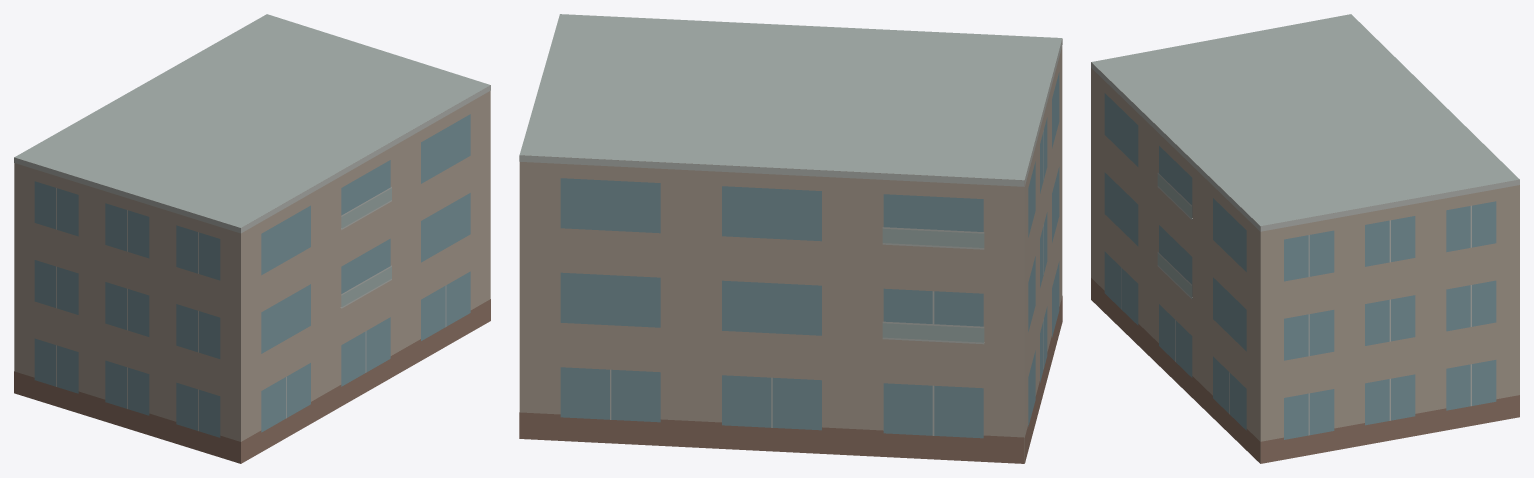
File: survey-upis-32955771.glb
3 views of the same model, side by side, from view 1: azimuth 30°, elevation 25°; view 2: azimuth 150°, elevation 25°; view 3: azimuth 270°, elevation 25° (orthographic). The views are drawn at different scales.
Visible parts, largest first — view 1: survey-upis-32955771.tmp; view 2: survey-upis-32955771.tmp; view 3: survey-upis-32955771.tmp.
Boxes of the visible parts, box(x1,y1,x2,y2) form: survey-upis-32955771.tmp: box(14, 14, 490, 463); survey-upis-32955771.tmp: box(519, 14, 1062, 463); survey-upis-32955771.tmp: box(1091, 14, 1519, 463).
Bounding box in the file's own units: 20.11 × 10.5 × 17.18.
